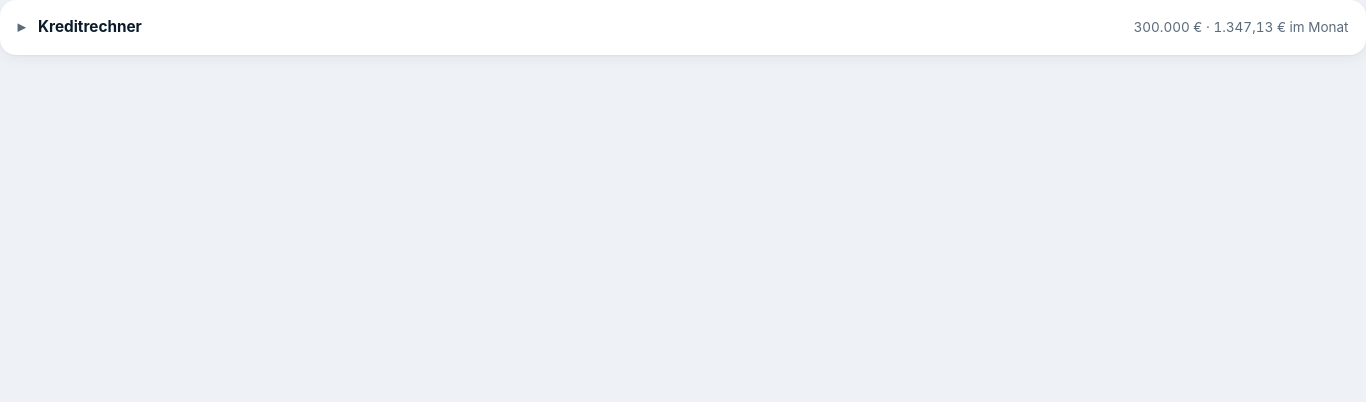
Scenario: Kreditrechner (Finanzen) › zeigt über 40 % vom Einkommen rot
Click the button "▸ Kreditrechner": (80, 27) [18,16,142,39]
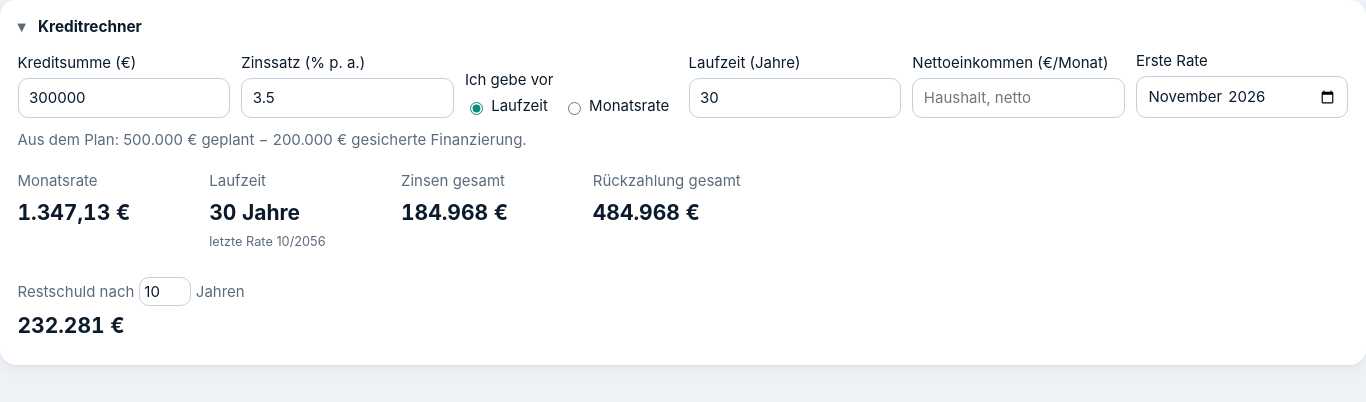
In the number field labelled "Nettoeinkommen": (1019, 98) [912,78,1125,118], type "3000"
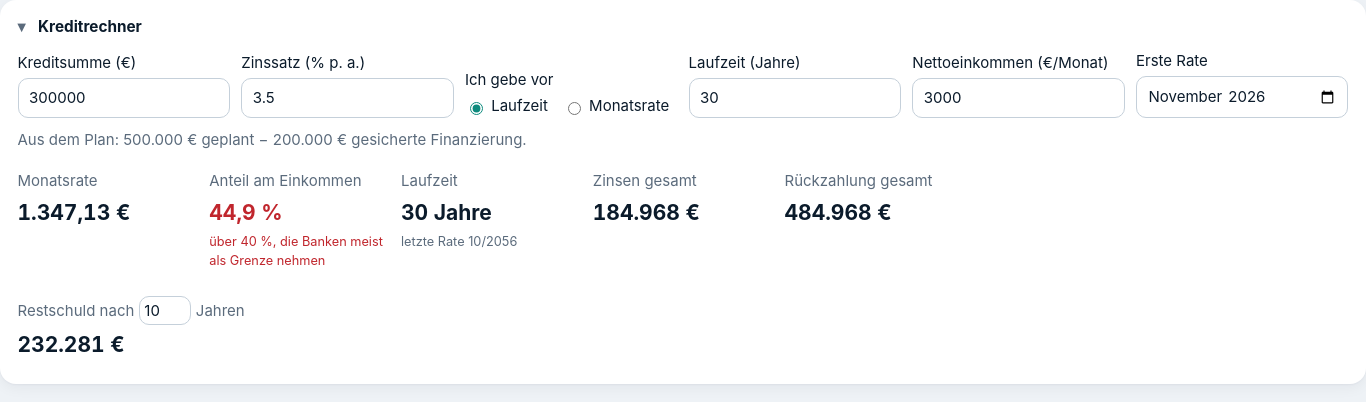
expect the text "über 40 %, die Banken meist als Grenze nehmen" is shown: met, box [209,232,390,270]
Replace the text in the number field labelled "Nettoeinkommen" with "6000": (1019, 98) [912,78,1125,118]
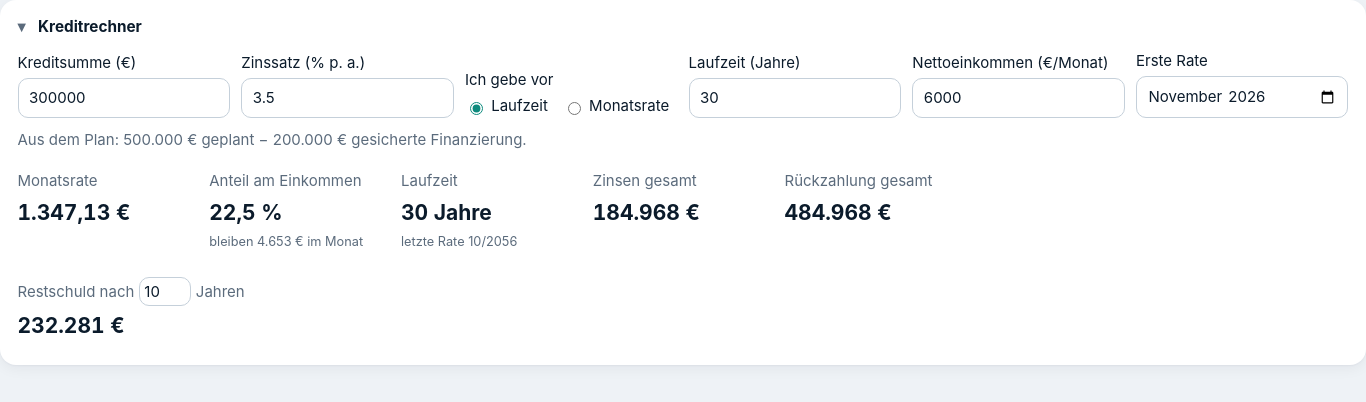
expect the text "über 40 %" is gone: met
expect the text "bleiben 4.653 € im Monat" is shown: met, box [209,232,390,251]
